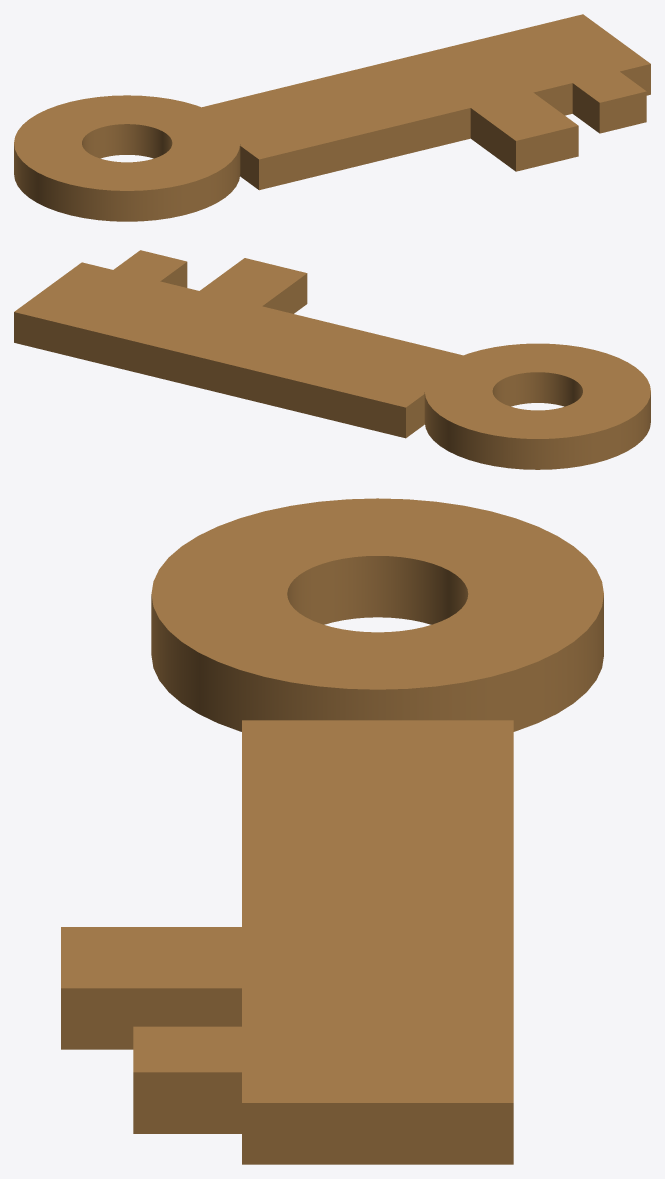
File: camp_hq_safe_key.glb
The picture shows the model from 3 angles, top to bottom: view 1: azimuth 30°, elevation 25°; view 2: azimuth 150°, elevation 25°; view 3: azimuth 270°, elevation 25°; orthographic projection. The views are drawn at different scales.
Parts seen in each view (by area): view 1: camp_hq_safe_key:key; view 2: camp_hq_safe_key:key; view 3: camp_hq_safe_key:key.
Boxes of the visible parts, x1,y1,x2,y2 form: camp_hq_safe_key:key: (14, 14, 650, 221); camp_hq_safe_key:key: (14, 250, 650, 469); camp_hq_safe_key:key: (61, 498, 603, 1164).
Bounding box in the file's own units: 0.06 × 0.0045 × 0.024.
